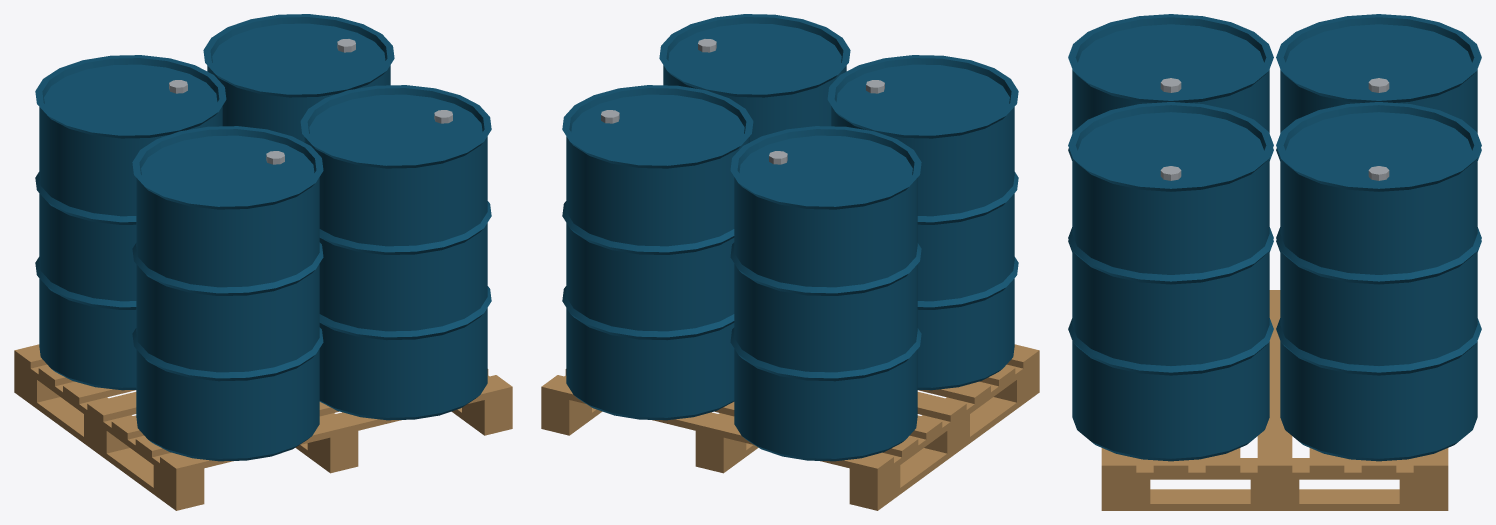
The model's file is plant.store.barrels.glb.
3 renders of one model, left to right at view 1: azimuth 30°, elevation 25°; view 2: azimuth 150°, elevation 25°; view 3: azimuth 270°, elevation 25°, orthographic. The views are drawn at different scales.
Parts seen in each view (by area): view 1: main__container_blue, main__softwood, main__steel_galvanised; view 2: main__container_blue, main__softwood, main__steel_galvanised; view 3: main__container_blue, main__softwood, main__steel_galvanised.
Part boxes in pixels (x1=…): main__container_blue: x1=35, y1=14, x2=491, y2=461; main__softwood: x1=14, y1=344, x2=512, y2=510; main__steel_galvanised: x1=169, y1=39, x2=452, y2=164; main__container_blue: x1=562, y1=14, x2=1018, y2=461; main__softwood: x1=541, y1=344, x2=1039, y2=510; main__steel_galvanised: x1=601, y1=39, x2=884, y2=164; main__container_blue: x1=1068, y1=14, x2=1481, y2=461; main__softwood: x1=1101, y1=290, x2=1448, y2=510; main__steel_galvanised: x1=1160, y1=78, x2=1389, y2=180.
Size of the model in its own units: 1.2 by 1.02 by 1.19.
